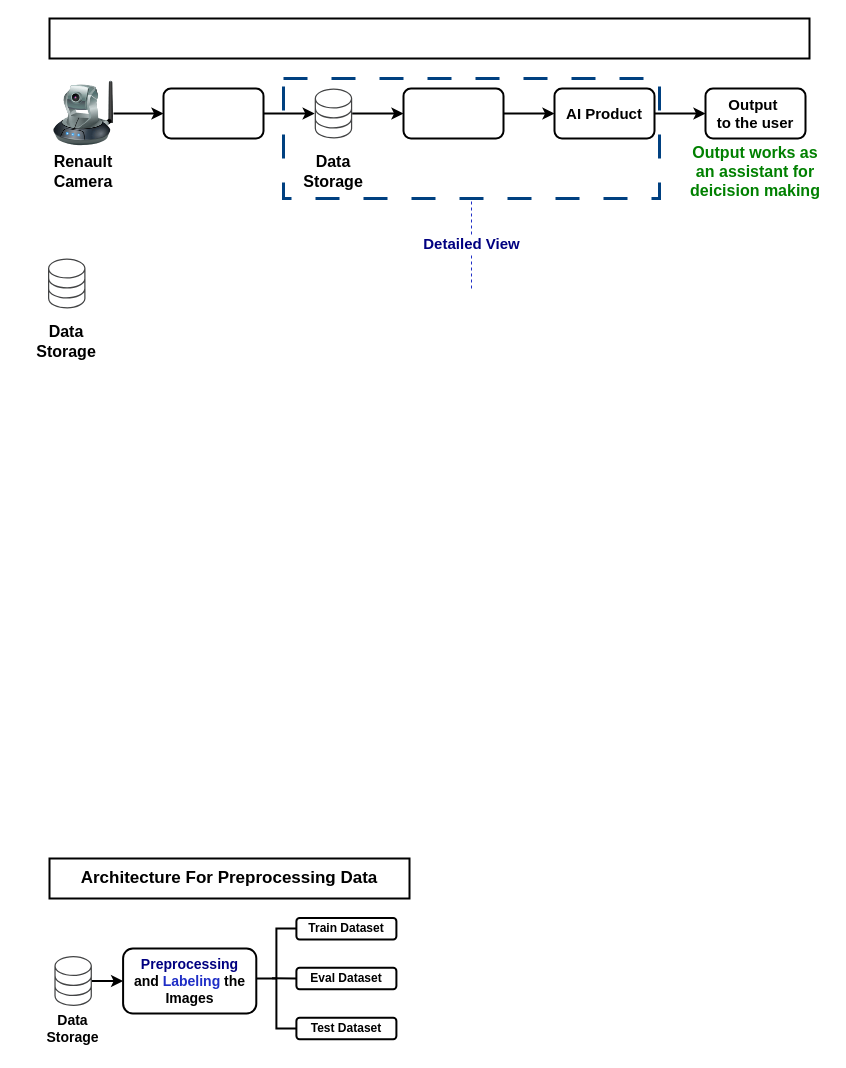
Image size: 846x1068. Some labels were removed from this diagram. The shapes that lost their labels are listed below. From the top down, each one's box as (x1, y1, x2, y2) in pixels, then its label:
(48, 17, 810, 59): Architecture AI Component
(162, 87, 264, 139): Data Collection
(402, 87, 504, 139): Model
